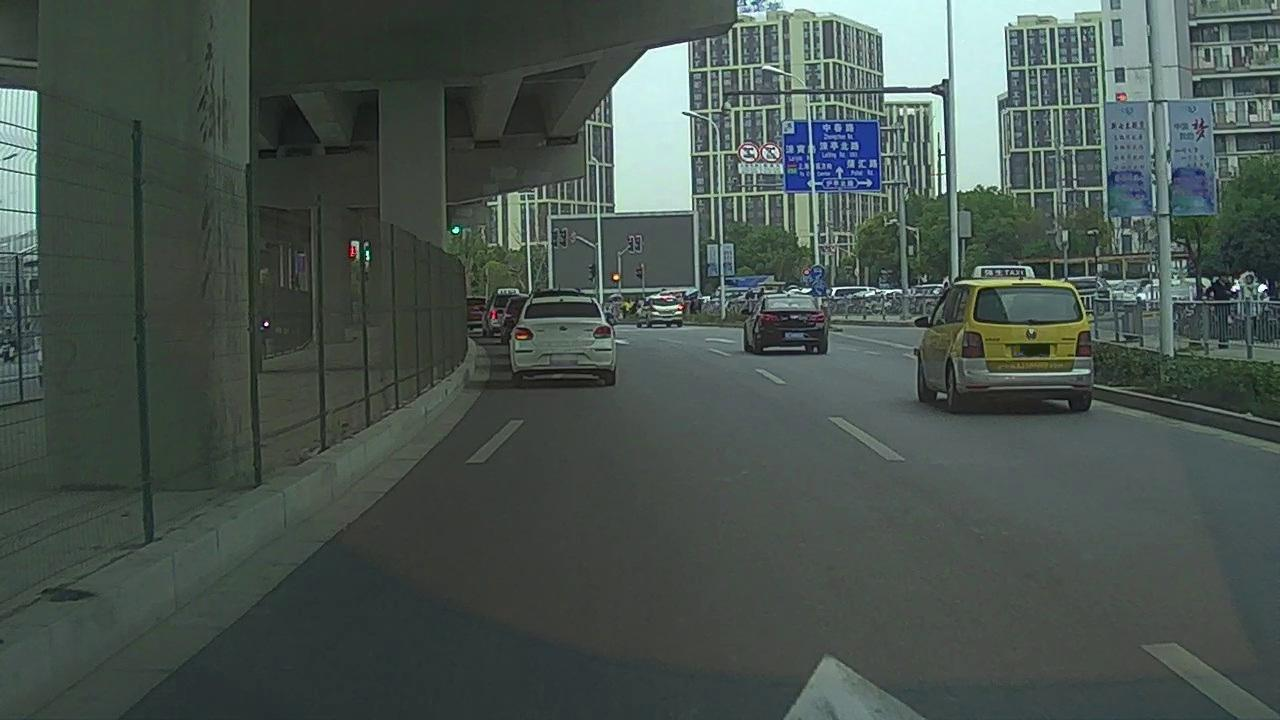traffic_light: (450, 225, 461, 236)
